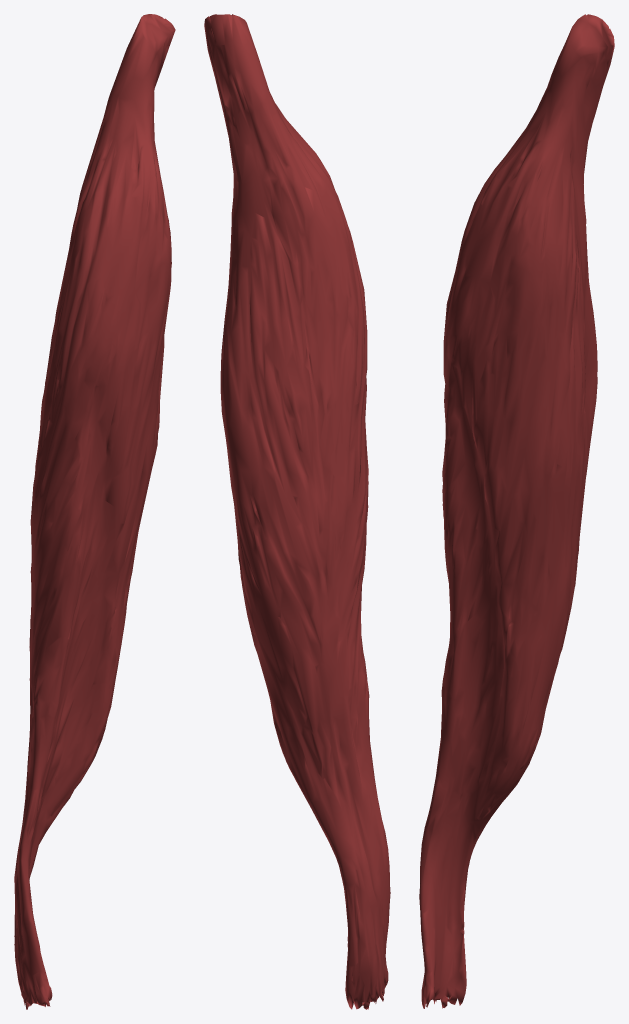
Rendered from long-head-of-biceps-femoris-r.glb.
3 renders of one model, left to right at view 1: azimuth 30°, elevation 25°; view 2: azimuth 150°, elevation 25°; view 3: azimuth 330°, elevation 25°, orthographic. The views are drawn at different scales.
Parts seen in each view (by area): view 1: Long head of biceps femoris.r; view 2: Long head of biceps femoris.r; view 3: Long head of biceps femoris.r.
Part boxes in pixels (bbox=[...]): Long head of biceps femoris.r: bbox=[14, 14, 175, 1009]; Long head of biceps femoris.r: bbox=[204, 14, 390, 1009]; Long head of biceps femoris.r: bbox=[419, 14, 614, 1008].
Size of the model in its own units: 0.0783 by 0.4254 by 0.0558.
